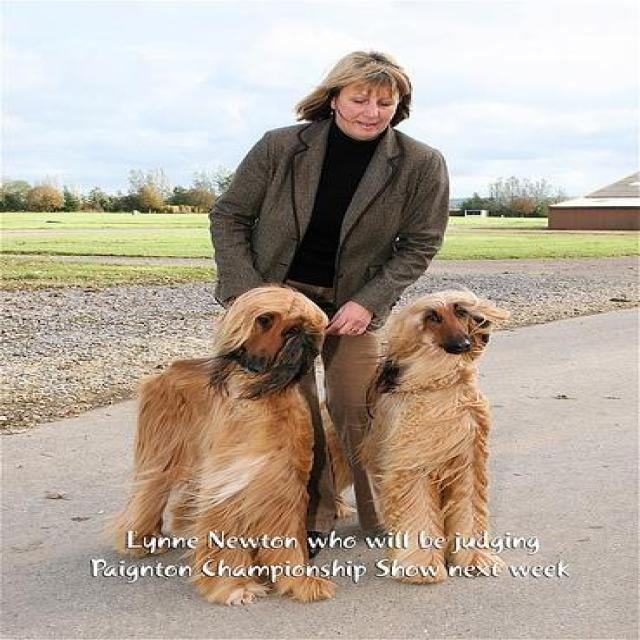afghan_hound: (92, 283, 340, 610), (314, 288, 506, 585)
